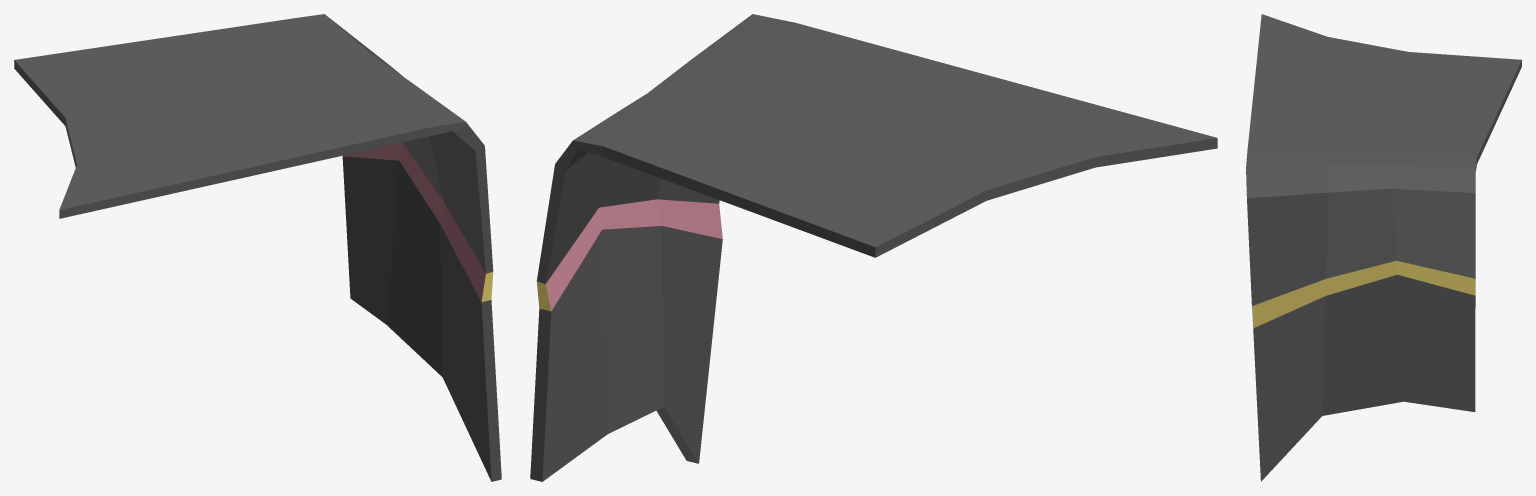
Rendered from Garage_Towel.fbx.
3 renders of one model, left to right at view 1: azimuth 30°, elevation 25°; view 2: azimuth 150°, elevation 25°; view 3: azimuth 270°, elevation 25°, orthographic. The views are drawn at different scales.
Parts seen in each view (by area): view 1: Garage_Towel; view 2: Garage_Towel; view 3: Garage_Towel.
Part boxes in pixels (x1,y1,x2,y2): Garage_Towel: (14, 14, 501, 481); Garage_Towel: (530, 14, 1217, 481); Garage_Towel: (1246, 14, 1521, 481).
Size of the model in its own units: 40.27 by 32.91 by 27.56.
